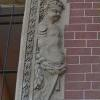Statue: (28, 1, 78, 89)
